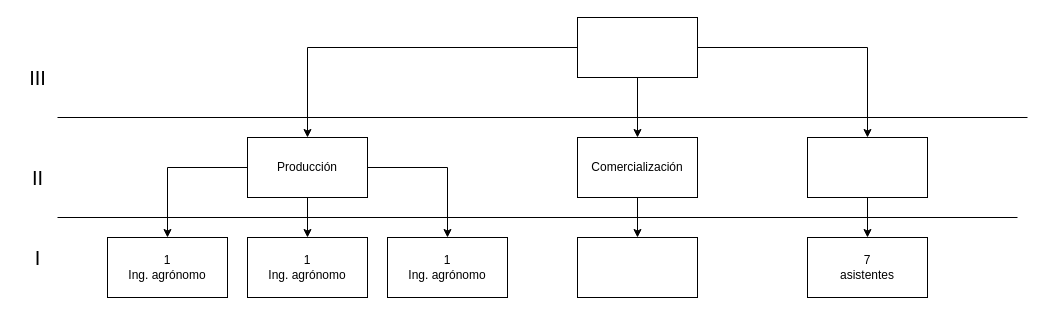
This 1046x315 diagram has some shape labels left out. The centre of each missing label's shape, as x and y in pixels:
3 asistentes: point (637, 267)
Administración-Finanzas: point (867, 167)
Gerencia general: point (637, 47)
